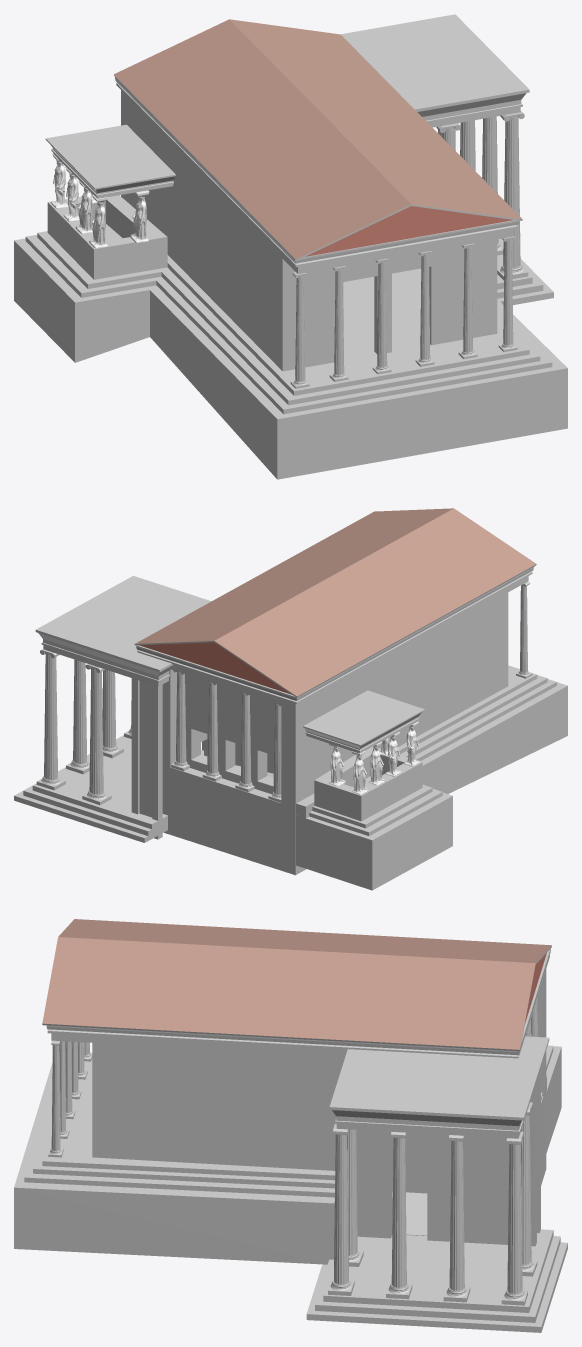
File: erechtheion no normal.glb
3 renders of one model, top to bottom at view 1: azimuth 30°, elevation 25°; view 2: azimuth 150°, elevation 25°; view 3: azimuth 270°, elevation 25°, orthographic. The views are drawn at different scales.
Visible parts, largest first — view 1: polySurface1914, Acropolis_Cleanedgroup2_Acropolis_CleanedGroup11273; view 2: polySurface1914, Acropolis_Cleanedgroup2_Acropolis_CleanedGroup11273; view 3: polySurface1914.
Boxes of the visible parts, bbox=[...] form: polySurface1914: bbox=[14, 14, 567, 479]; Acropolis_Cleanedgroup2_Acropolis_CleanedGroup11273: bbox=[50, 154, 149, 248]; polySurface1914: bbox=[14, 508, 567, 890]; Acropolis_Cleanedgroup2_Acropolis_CleanedGroup11273: bbox=[328, 721, 420, 794]; polySurface1914: bbox=[14, 919, 567, 1332].
Bounding box in the file's own units: 25 × 14.17 × 25.76.
